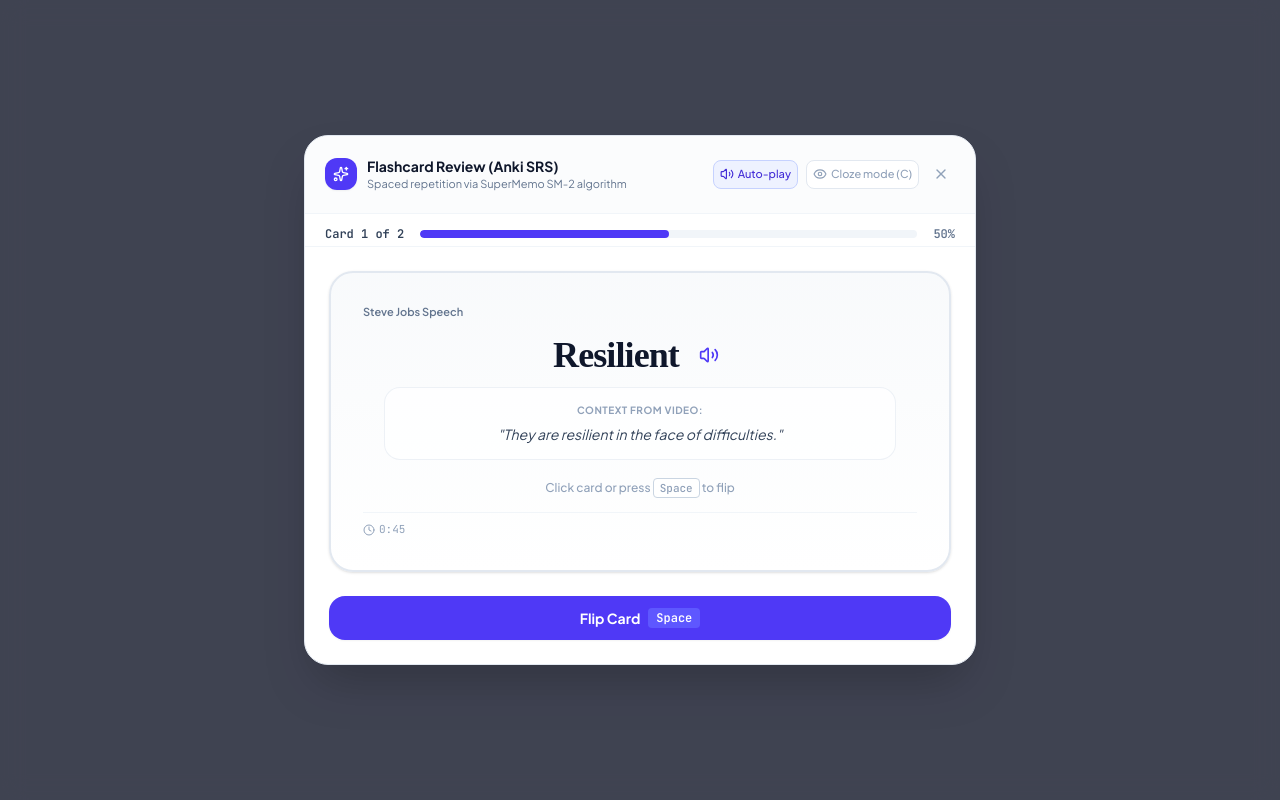
it: FlashcardReviewModal Component › renders front side of card, flips on click, and provides SM-2 rating buttons
This screenshot has width=1280, height=800.
Expected: the text "Flashcard Review (Anki SRS)" is shown, [367, 156, 559, 176]
Expected: the heading "resilient" is shown, [553, 335, 679, 375]
Note: Flip card button
Click the button "Flip Card Space" at {"x": 640, "y": 618}, box [329, 596, 951, 640]
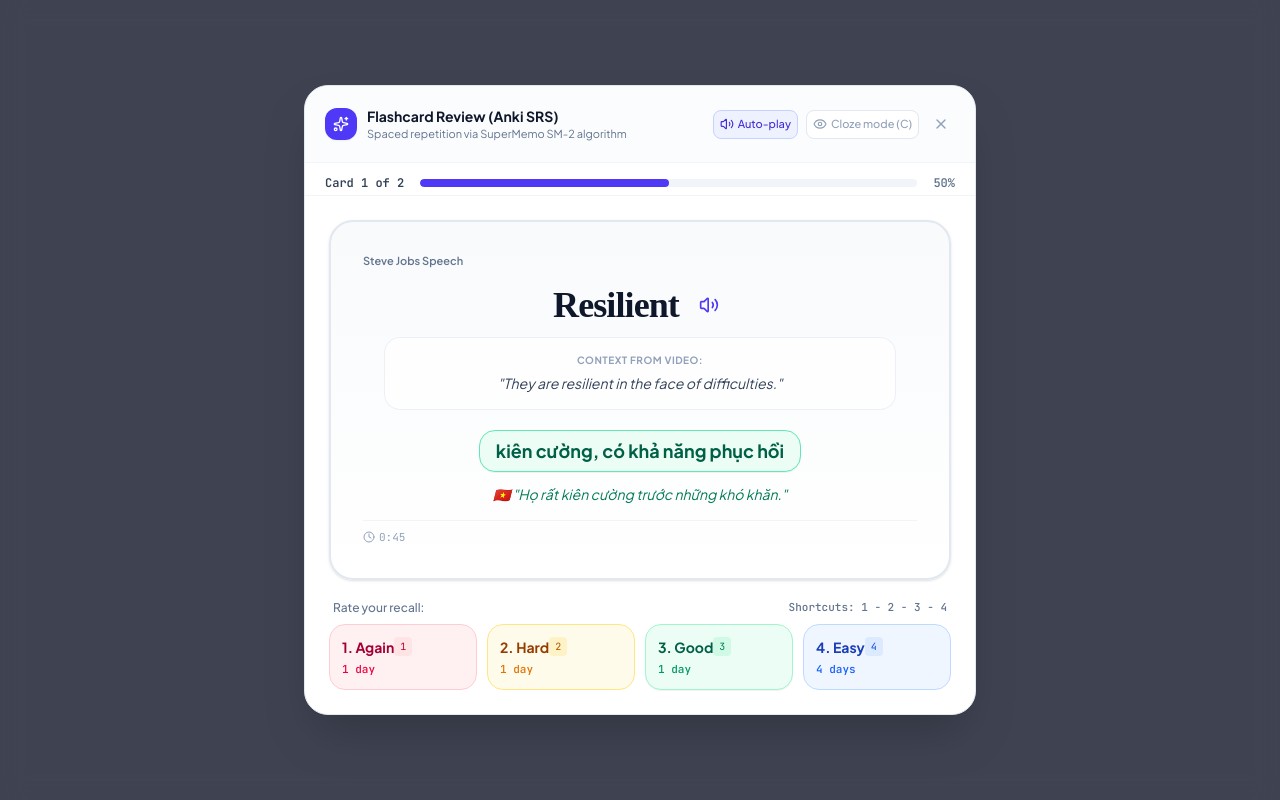
Expected: the text "kiên cường, có khả năng phục hồi" is shown, [479, 430, 801, 472]
Expected: the text "1. Again" is shown, [342, 637, 394, 657]
Expected: the text "2. Hard" is shown, [500, 637, 549, 657]
Note: Click Good rating
Click the text "3. Good" at {"x": 686, "y": 647}, box [658, 637, 713, 657]
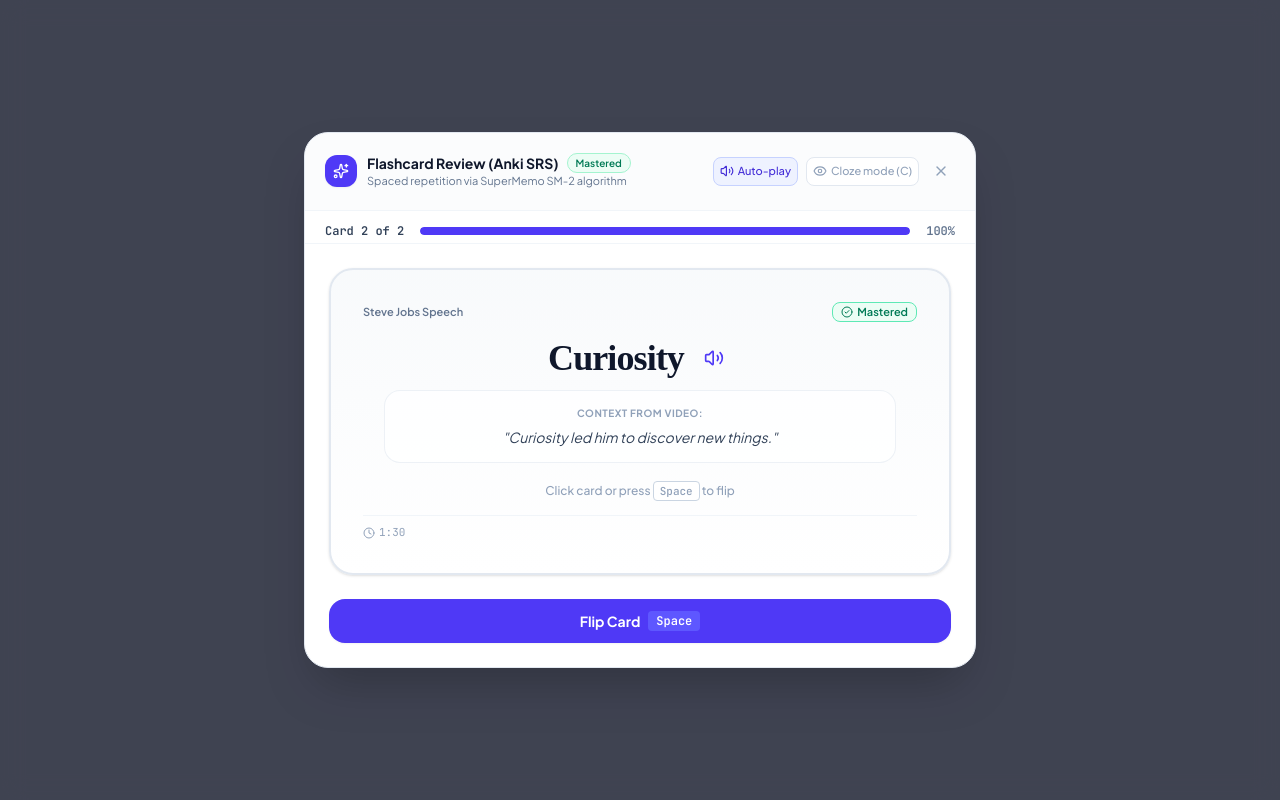
Expected: the heading "curiosity" is shown, [548, 338, 684, 378]
